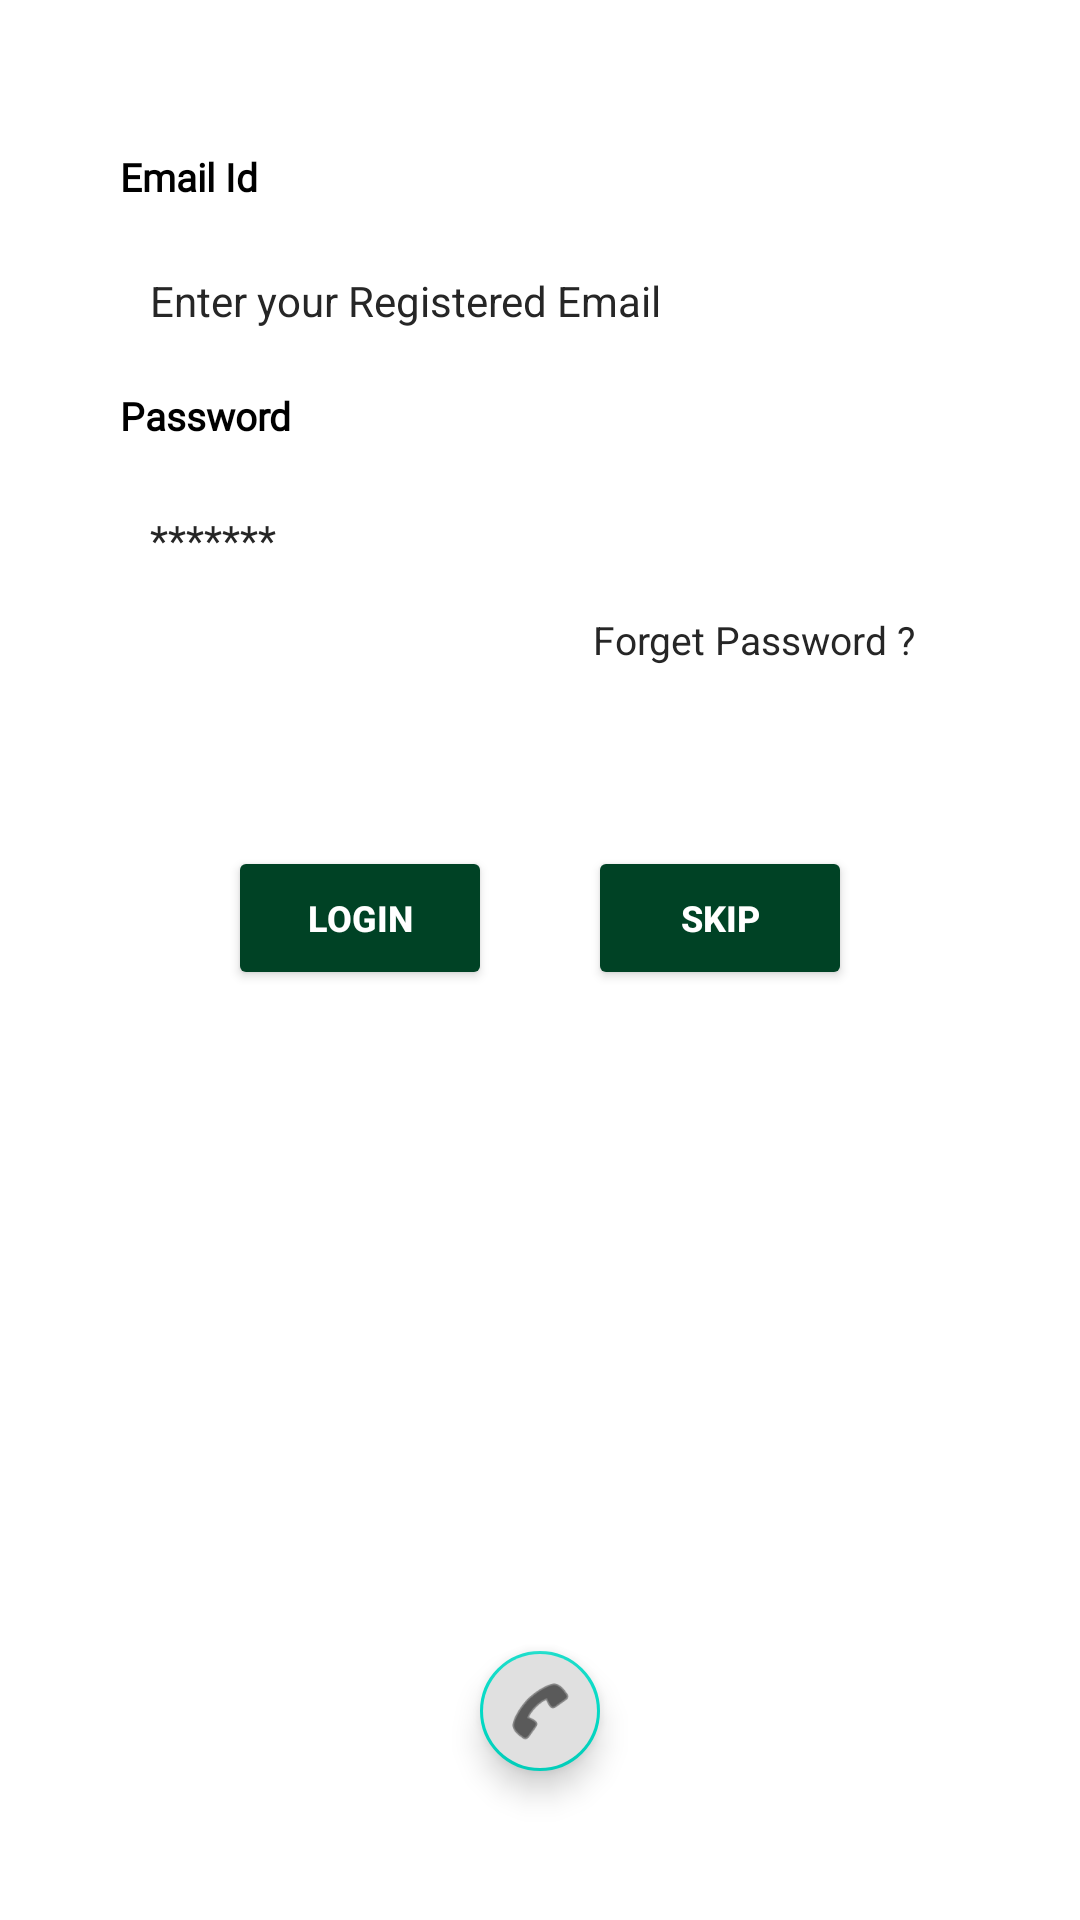

Screen size 1080*1920. Icon name, then its box in pixels as {"x1": x1, "y1": y1, "x2": x2, "y2": y2}:
call: {"x1": 480, "y1": 1651, "x2": 600, "y2": 1783}
